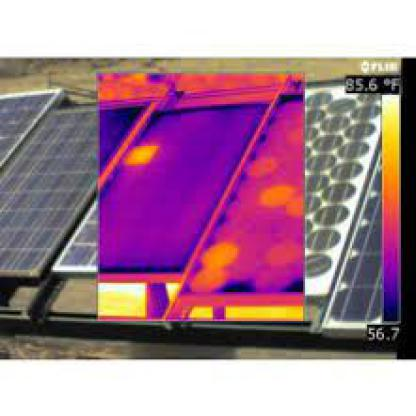Defects: (98, 281, 145, 319), (124, 144, 156, 166), (202, 241, 233, 263), (268, 184, 292, 210), (274, 239, 294, 268), (204, 270, 228, 294), (254, 162, 284, 180), (164, 276, 180, 298)
